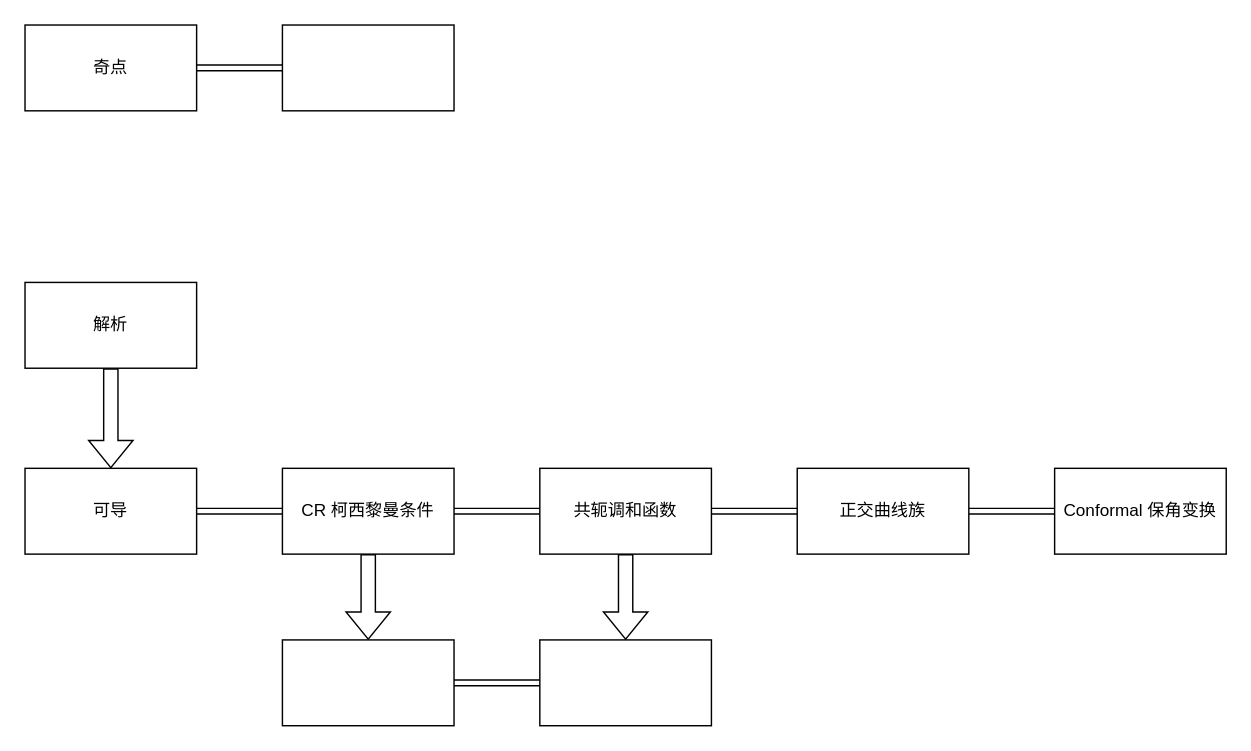
Some shapes in this 1251 by 751 pixel diagram are drawn without their labels. The centre of each missing label's shape, as x and y in pixels:
拉普拉斯方程: the point at 367,682
无定义 不可导 不可解析: the point at 367,67
调和函数: the point at 624,682
